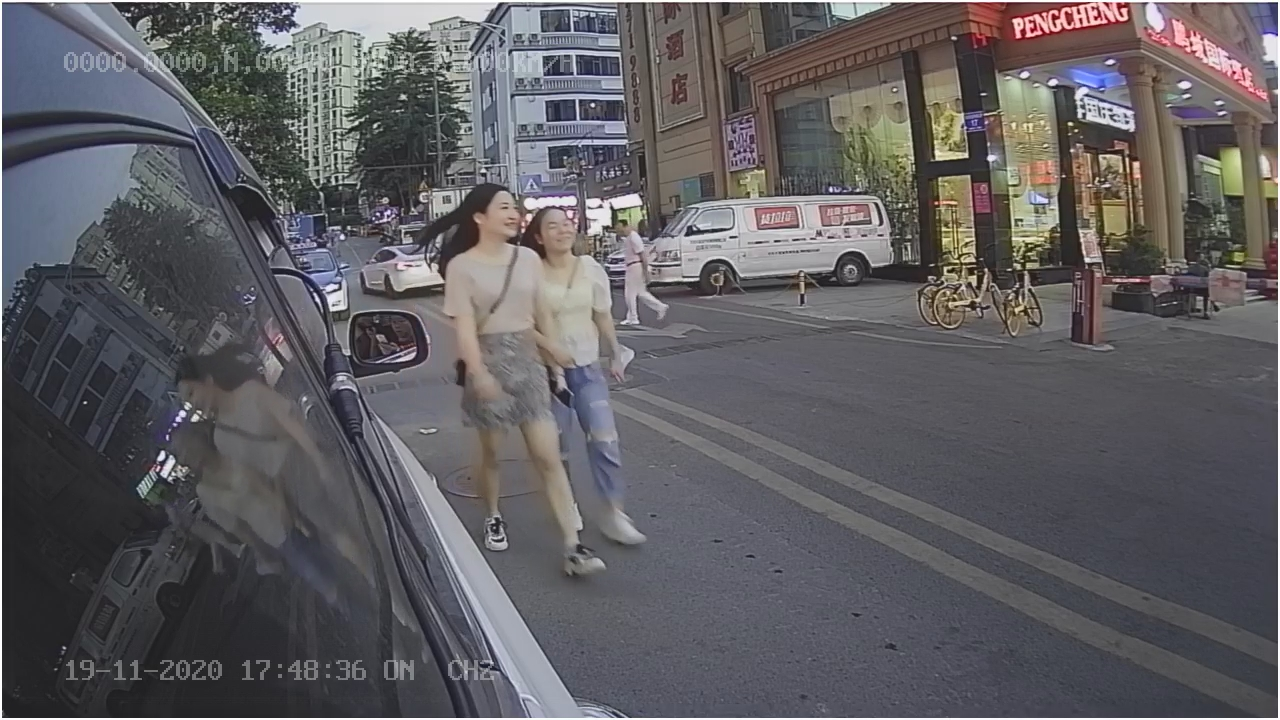person: (430, 173, 561, 484)
